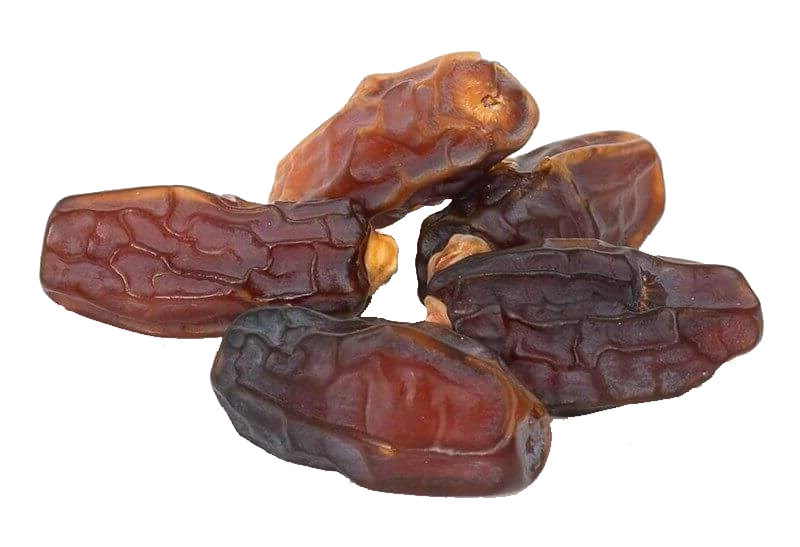hurmaa: (209, 299, 557, 514)
